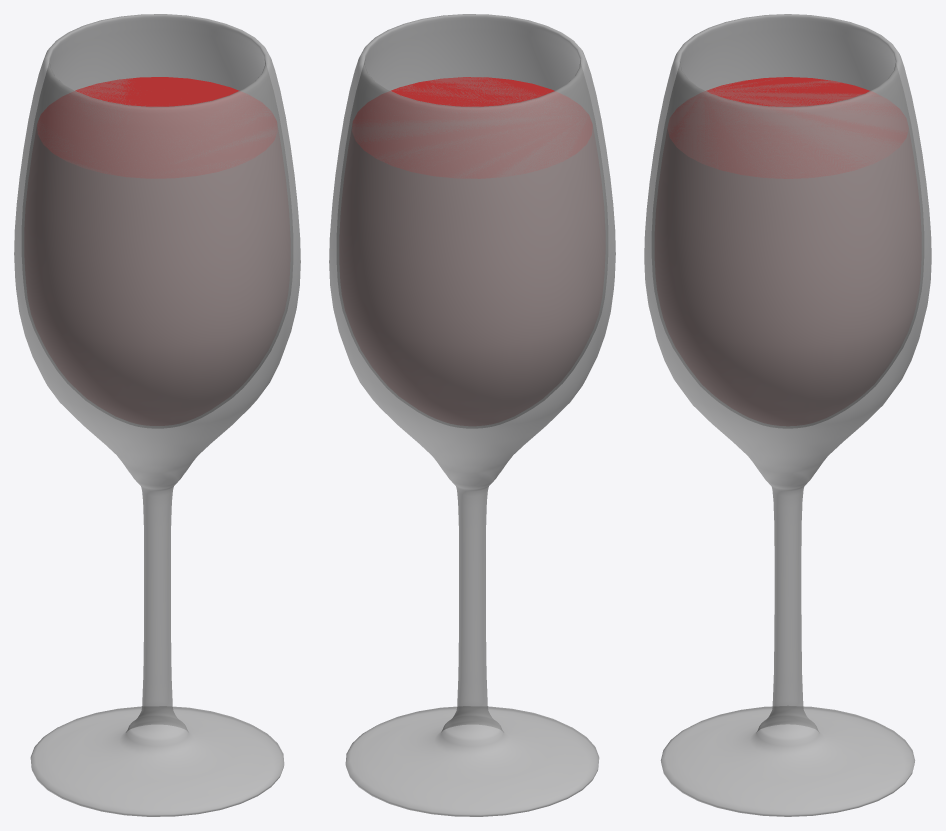
File: White_Wine.fbx
3 renders of one model, left to right at view 1: azimuth 30°, elevation 25°; view 2: azimuth 150°, elevation 25°; view 3: azimuth 270°, elevation 25°, orthographic.
Visible parts, largest first — view 1: Glass_Of_White_Wine; view 2: Glass_Of_White_Wine; view 3: Glass_Of_White_Wine.
Part boxes in pixels (left/top/right/bottom): Glass_Of_White_Wine: left=14, top=14, right=300, bottom=816; Glass_Of_White_Wine: left=329, top=14, right=615, bottom=816; Glass_Of_White_Wine: left=644, top=14, right=931, bottom=816.
Size of the model in its own units: 5.71 by 15.47 by 5.71.
